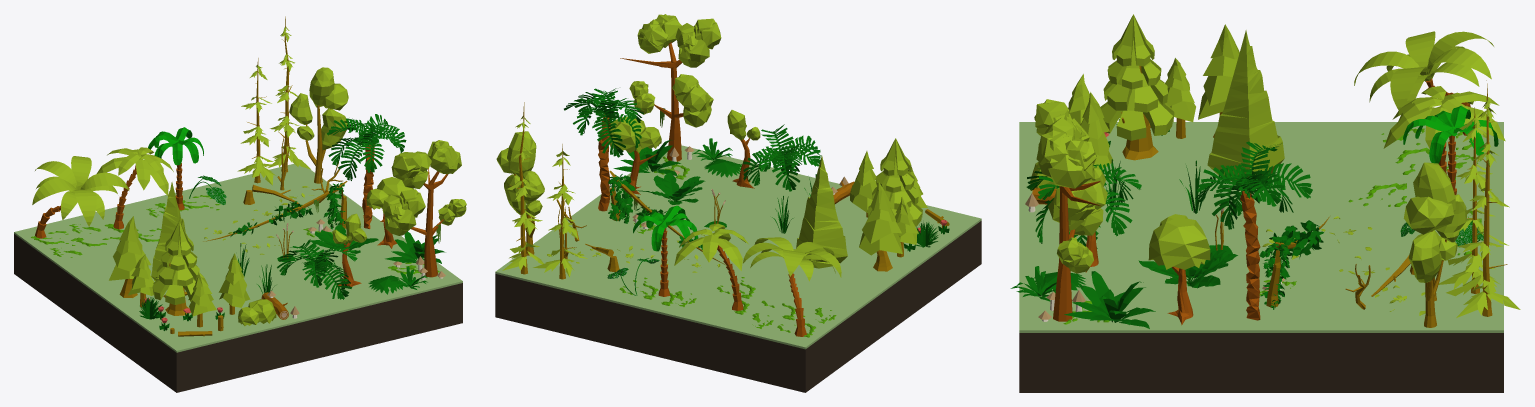
Rendered from Vegetation.fbx.
The picture shows the model from 3 angles, left to right: view 1: azimuth 30°, elevation 25°; view 2: azimuth 150°, elevation 25°; view 3: azimuth 270°, elevation 25°; orthographic projection. The views are drawn at different scales.
Visible parts, largest first — view 1: Cube, Cube (1), Vegetation_Modular_Tree_Foliage_Tropical_Palm_0 (3), Vegetation_Modular_New_Tropical_Plant_Fern_01 (1), Vegetation_Modular_Tree_Foliage_Alpine_05, Vegetation_Modular_New_Tropical_Plant_Fern_01, Vegetation_Modular_Tree_Foliage_Tropical_Palm_0 (2), Vegetation_Modular_Tree_Foliage_Clump_Large_11 (1), Vegetation_Modular_Tree_Foliage_Alpine_01, Vegetation_Modular_Tree_Foliage_Clump_Large_11, Vegetation_Modular_New_Tree_Trunk_01, Vegetation_Modular_Tree_Foliage_Clump_Spike_01 (+21 smaller); view 2: Cube, Cube (1), Vegetation_Modular_Tree_Foliage_Clump_Spike_01, Vegetation_Modular_New_Tropical_Plant_Fern_01, Vegetation_Modular_New_Tropical_Plant_Fern_01 (1), Vegetation_Modular_Tree_Foliage_Alpine_05, Vegetation_Modular_Tree_Foliage_Tropical_Palm_0 (3), Vegetation_Modular_Tree_Foliage_Alpine_01, Vegetation_Modular_Tree_Foliage_Clump_Large_11, Vegetation_Modular_Tree_Foliage_Tropical_Palm_0 (2), Vegetation_Modular_Tree_Foliage_Clump_Large_11 (1), Vegetation_Modular_New_Tree_Trunk_01 (+20 smaller); view 3: Cube, Cube (1), Vegetation_Modular_Tree_Foliage_Alpine_05, Vegetation_Modular_Tree_Foliage_Clump_Spike_01, Vegetation_Modular_Tree_Foliage_Tropical_Palm_0 (3), Vegetation_Modular_New_Tropical_Plant_Fern_01 (1), Vegetation_Modular_Tree_Foliage_Clump_Large_10, Vegetation_Modular_Tree_Foliage_Tropical_Palm_0 (2), Vegetation_Modular_Tree_Foliage_Clump_Draped_01 (2), Vegetation_Modular_New_Tropical_Plant_02, Vegetation_Modular_Tree_Foliage_Alpine_01, Vegetation_Modular_New_Tropical_Plant_Fern_01 (+25 smaller).
Part boxes in pixels (bbox=[...]): Cube: bbox=[14, 164, 462, 352]; Cube (1): bbox=[14, 234, 462, 392]; Vegetation_Modular_Tree_Foliage_Tropical_Palm_0 (3): bbox=[32, 156, 129, 226]; Vegetation_Modular_New_Tropical_Plant_Fern_01 (1): bbox=[327, 114, 406, 180]; Vegetation_Modular_Tree_Foliage_Alpine_05: bbox=[152, 220, 199, 304]; Vegetation_Modular_New_Tropical_Plant_Fern_01: bbox=[277, 239, 357, 299]; Vegetation_Modular_Tree_Foliage_Tropical_Palm_0 (2): bbox=[96, 147, 173, 195]; Vegetation_Modular_Tree_Foliage_Clump_Large_11 (1): bbox=[382, 189, 425, 235]; Vegetation_Modular_Tree_Foliage_Alpine_01: bbox=[109, 216, 151, 280]; Vegetation_Modular_Tree_Foliage_Clump_Large_11: bbox=[391, 151, 431, 188]; Vegetation_Modular_New_Tree_Trunk_01: bbox=[411, 168, 447, 277]; Vegetation_Modular_Tree_Foliage_Clump_Spike_01: bbox=[151, 182, 185, 281]; Cube: bbox=[495, 145, 981, 349]; Cube (1): bbox=[495, 221, 981, 392]; Vegetation_Modular_Tree_Foliage_Clump_Spike_01: bbox=[796, 155, 847, 268]; Vegetation_Modular_New_Tropical_Plant_Fern_01: bbox=[743, 124, 821, 191]; Vegetation_Modular_New_Tropical_Plant_Fern_01 (1): bbox=[564, 88, 643, 157]; Vegetation_Modular_Tree_Foliage_Alpine_05: bbox=[867, 138, 922, 226]; Vegetation_Modular_Tree_Foliage_Tropical_Palm_0 (3): bbox=[743, 237, 841, 281]; Vegetation_Modular_Tree_Foliage_Alpine_01: bbox=[859, 182, 902, 255]; Vegetation_Modular_Tree_Foliage_Clump_Large_11: bbox=[675, 18, 721, 67]; Vegetation_Modular_Tree_Foliage_Tropical_Palm_0 (2): bbox=[674, 223, 748, 270]; Vegetation_Modular_Tree_Foliage_Clump_Large_11 (1): bbox=[672, 74, 713, 127]; Vegetation_Modular_New_Tree_Trunk_01: bbox=[620, 42, 683, 161]; Cube: bbox=[1019, 122, 1503, 332]; Cube (1): bbox=[1019, 333, 1503, 392]; Vegetation_Modular_Tree_Foliage_Alpine_05: bbox=[1100, 14, 1174, 140]; Vegetation_Modular_Tree_Foliage_Clump_Spike_01: bbox=[1207, 30, 1284, 182]; Vegetation_Modular_Tree_Foliage_Tropical_Palm_0 (3): bbox=[1354, 31, 1493, 110]; Vegetation_Modular_New_Tropical_Plant_Fern_01 (1): bbox=[1195, 141, 1312, 229]; Vegetation_Modular_Tree_Foliage_Clump_Large_10: bbox=[1036, 130, 1096, 188]; Vegetation_Modular_Tree_Foliage_Tropical_Palm_0 (2): bbox=[1383, 86, 1505, 148]; Vegetation_Modular_Tree_Foliage_Clump_Draped_01 (2): bbox=[1148, 217, 1210, 269]; Vegetation_Modular_New_Tropical_Plant_02: bbox=[1064, 271, 1155, 328]; Vegetation_Modular_Tree_Foliage_Alpine_01: bbox=[1198, 24, 1239, 119]; Vegetation_Modular_New_Tropical_Plant_Fern_01: bbox=[1026, 163, 1141, 248].
Size of the model in its own units: 17.8 by 10.77 by 16.76.
